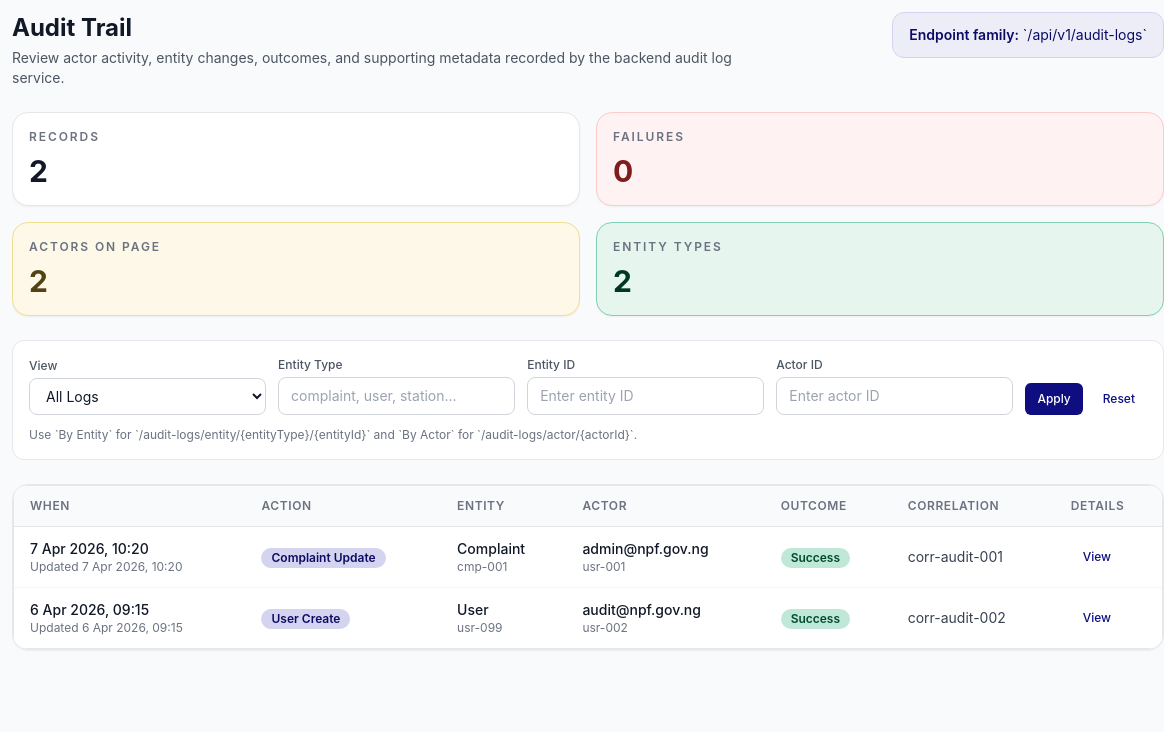
Test case: AuditTrailPage › applies actor filters using the actor endpoint
This screenshot has width=1164, height=732.
Select "By Actor" in the dropdown labelled "View" at (148,396), box [29,378,266,415]
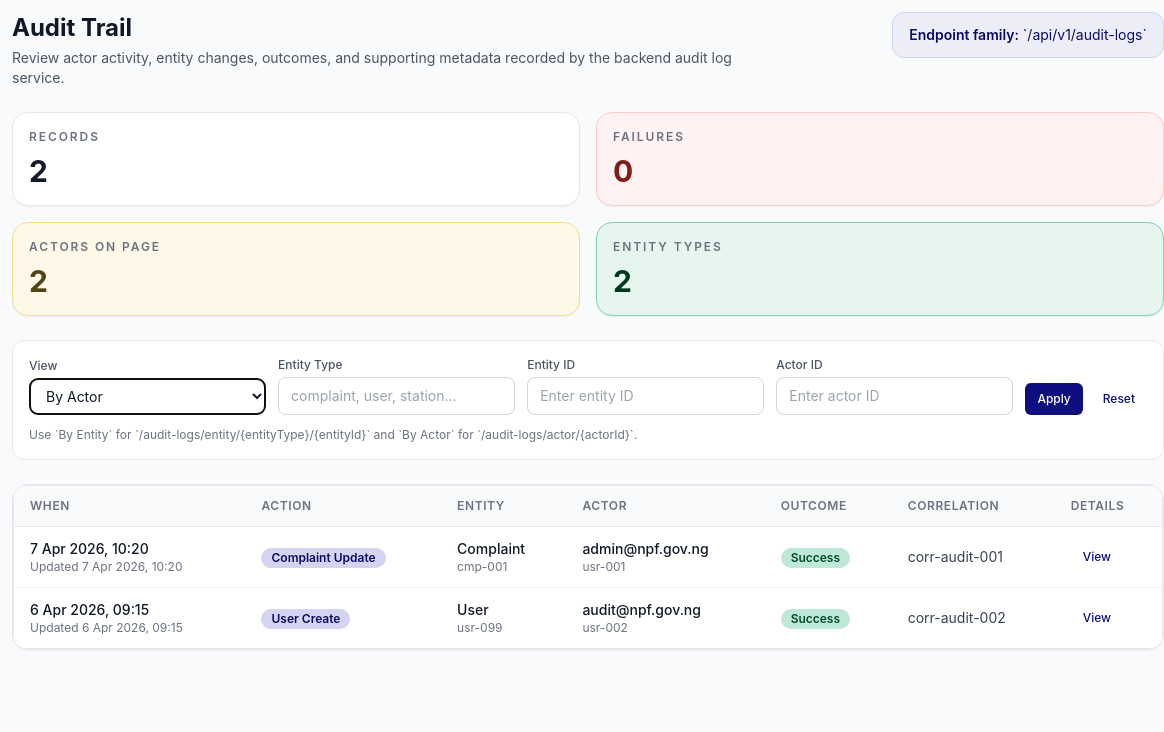
Type "usr-002" into the field labelled "Actor ID" at (895,396), box [776,377,1013,415]
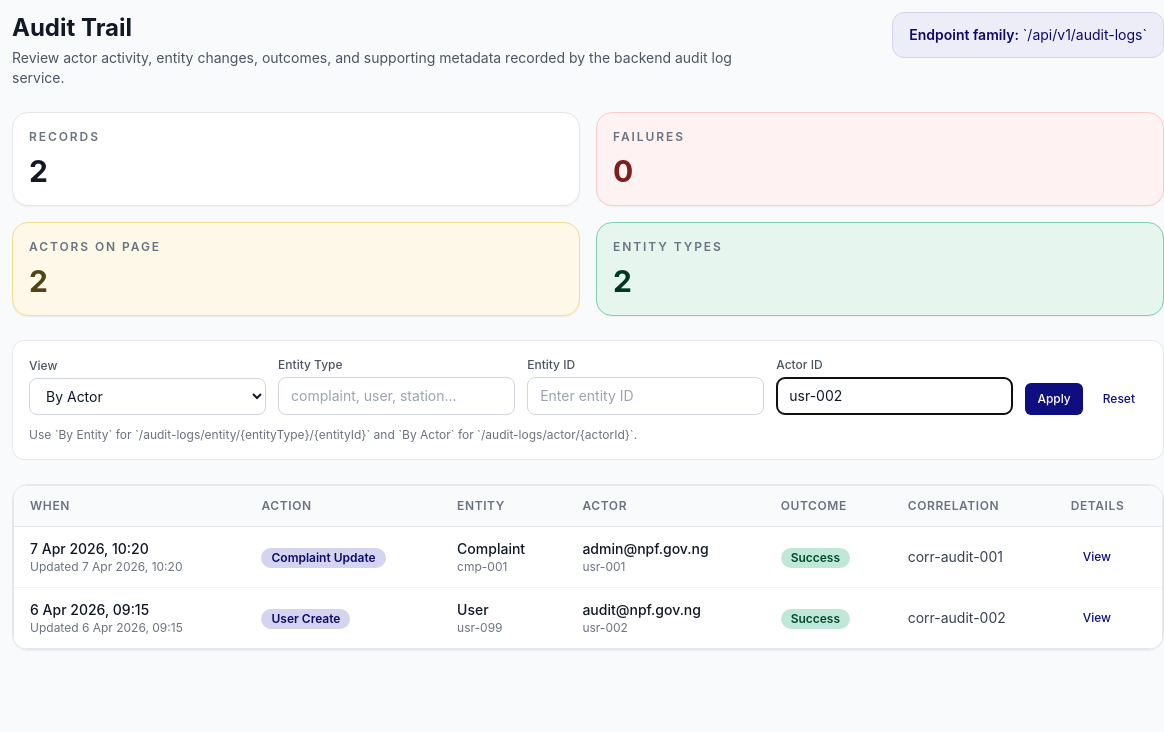
Click the button "Apply" at (1054,399), box [1025,383,1083,415]
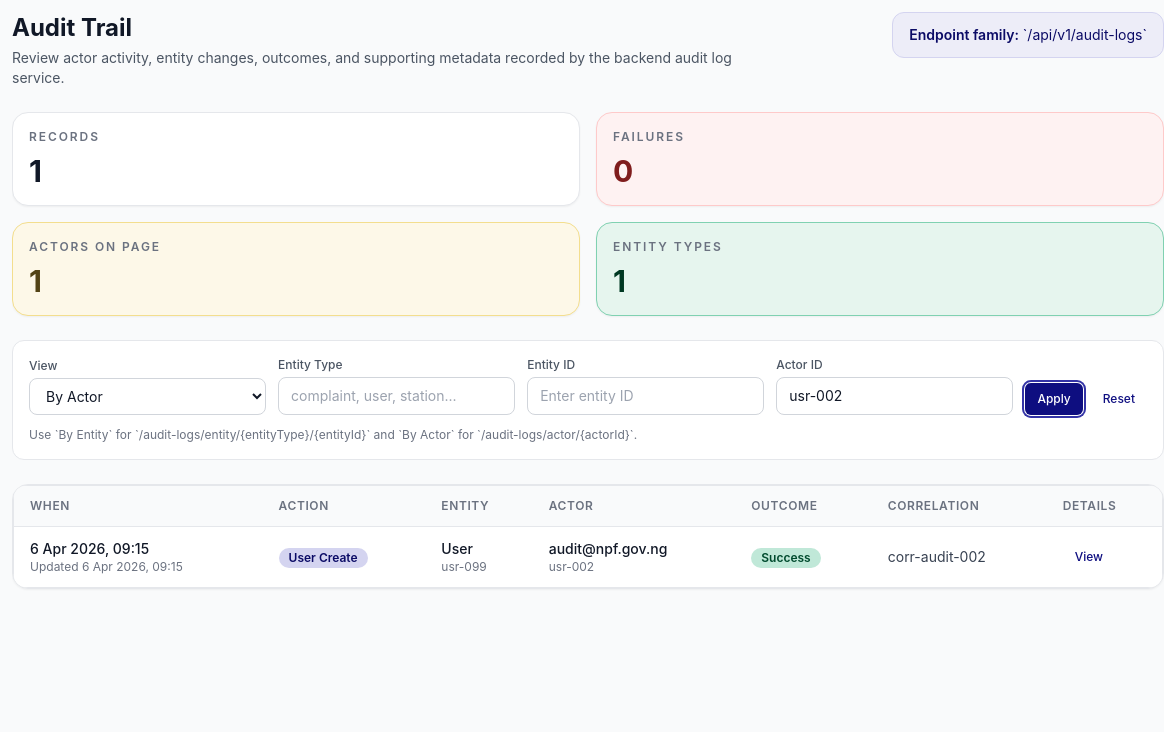
Expected: the text "User Create" is shown, [279,548,368,568]
Expected: the text "admin@npf.gov.ng" is gone
